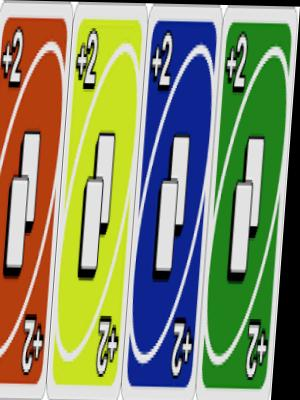-2: (78, 117, 123, 291), (4, 117, 47, 288), (229, 125, 272, 290), (153, 127, 196, 289), (97, 307, 129, 387), (0, 20, 29, 95), (223, 23, 252, 98), (247, 311, 277, 383), (25, 301, 52, 379), (173, 314, 203, 384), (74, 22, 103, 94), (149, 22, 176, 98)
blue: (128, 7, 222, 399)
green: (201, 9, 299, 400)
red: (0, 1, 74, 400)
yellow: (53, 5, 148, 397)
